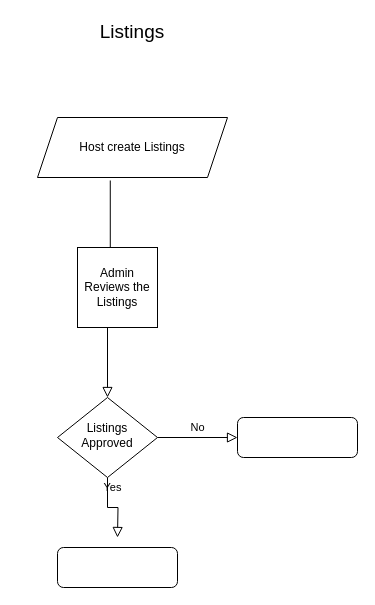
Some shapes in this 375 by 605 pixel diagram are drawn without their labels. The box of each missing label's shape, as (x1, y1, x2, y2) in pixels:
Notify Host that Listing was Rejected: (236, 416, 358, 458)
Publish Listing: (56, 546, 178, 588)
